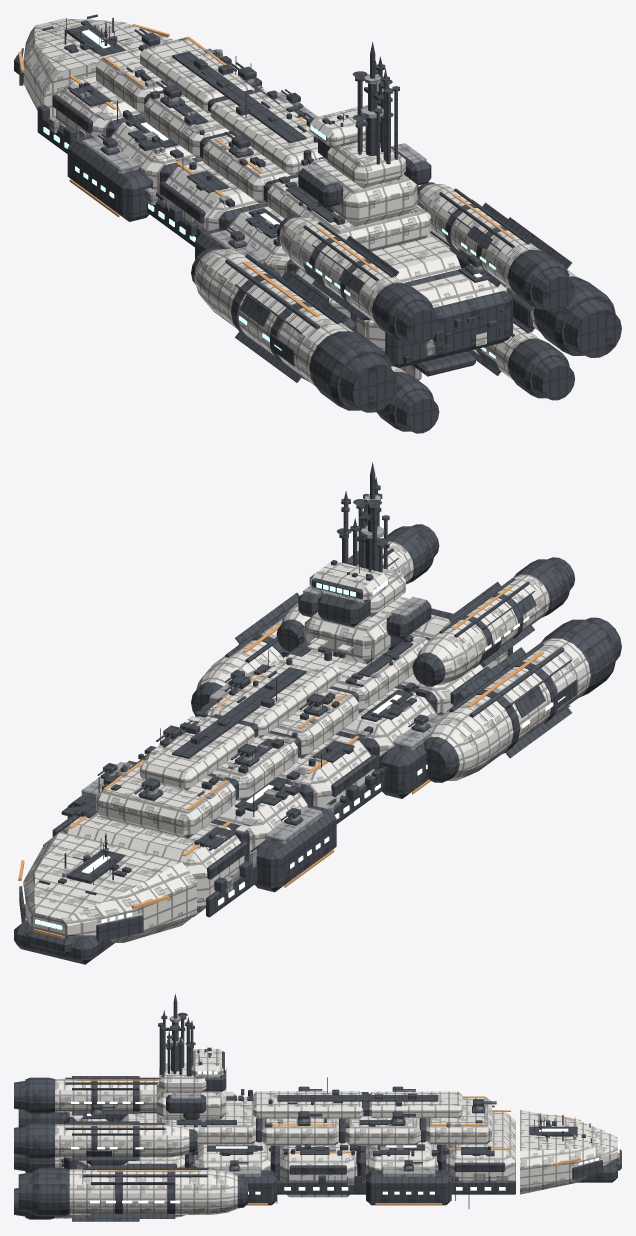
The model's file is aur-helix-destroyer.fbx.
3 views of the same model, one above another, from view 1: azimuth 30°, elevation 25°; view 2: azimuth 150°, elevation 25°; view 3: azimuth 270°, elevation 25° (orthographic). The views are drawn at different scales.
Visible parts, largest first — view 1: Hull_Dark, Hull_White, Hull_Grey, Livery, Windows; view 2: Hull_White, Hull_Dark, Hull_Grey, Livery, Windows; view 3: Hull_White, Hull_Dark, Hull_Grey, Windows, Livery.
Part boxes in pixels (x1=…): Hull_Dark: x1=14, y1=14, x2=621, y2=433; Hull_White: x1=23, y1=18, x2=577, y2=412; Hull_Grey: x1=49, y1=23, x2=482, y2=355; Livery: x1=18, y1=24, x2=513, y2=373; Windows: x1=22, y1=29, x2=495, y2=358; Hull_White: x1=23, y1=541, x2=590, y2=942; Hull_Dark: x1=14, y1=462, x2=621, y2=964; Hull_Grey: x1=43, y1=495, x2=441, y2=892; Livery: x1=18, y1=565, x2=543, y2=938; Windows: x1=22, y1=565, x2=565, y2=929; Hull_White: x1=55, y1=1049, x2=617, y2=1218; Hull_Dark: x1=14, y1=993, x2=621, y2=1221; Hull_Grey: x1=92, y1=1016, x2=576, y2=1185; Windows: x1=71, y1=1054, x2=619, y2=1203; Livery: x1=76, y1=1079, x2=619, y2=1204.
Bounding box in the file's own units: 168 × 173 × 453.
6 materials, 3 textured.
